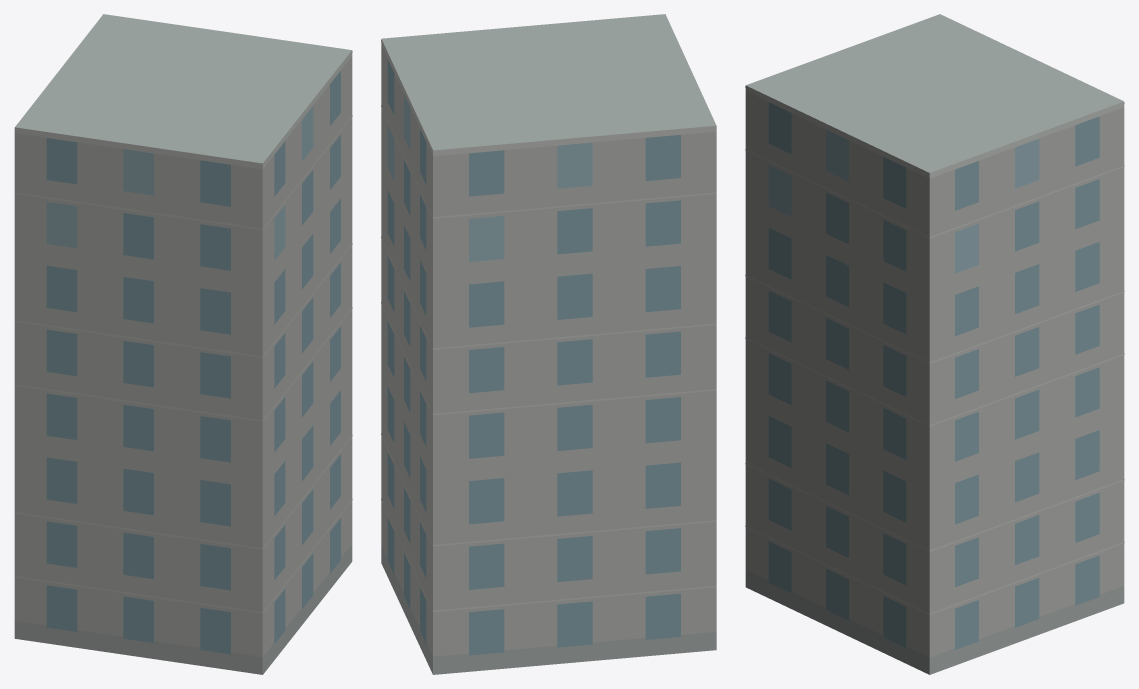
File: survey-upis-33043043.glb
3 views of the same model, side by side, from view 1: azimuth 30°, elevation 25°; view 2: azimuth 150°, elevation 25°; view 3: azimuth 270°, elevation 25° (orthographic). The views are drawn at different scales.
Parts seen in each view (by area): view 1: survey-upis-33043043.tmp; view 2: survey-upis-33043043.tmp; view 3: survey-upis-33043043.tmp.
Boxes of the visible parts, x1=… form: survey-upis-33043043.tmp: x1=14, y1=14, x2=352, y2=674; survey-upis-33043043.tmp: x1=381, y1=14, x2=716, y2=674; survey-upis-33043043.tmp: x1=745, y1=14, x2=1124, y2=674.
Bounding box in the file's own units: 14.5 × 21.3 × 14.59.
